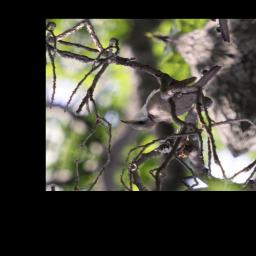Cuckoo: (117, 43, 223, 147)
